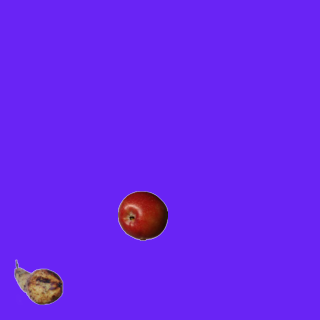Apple Braeburn: (117, 190, 167, 240)
Pear Abate: (13, 257, 63, 307)
